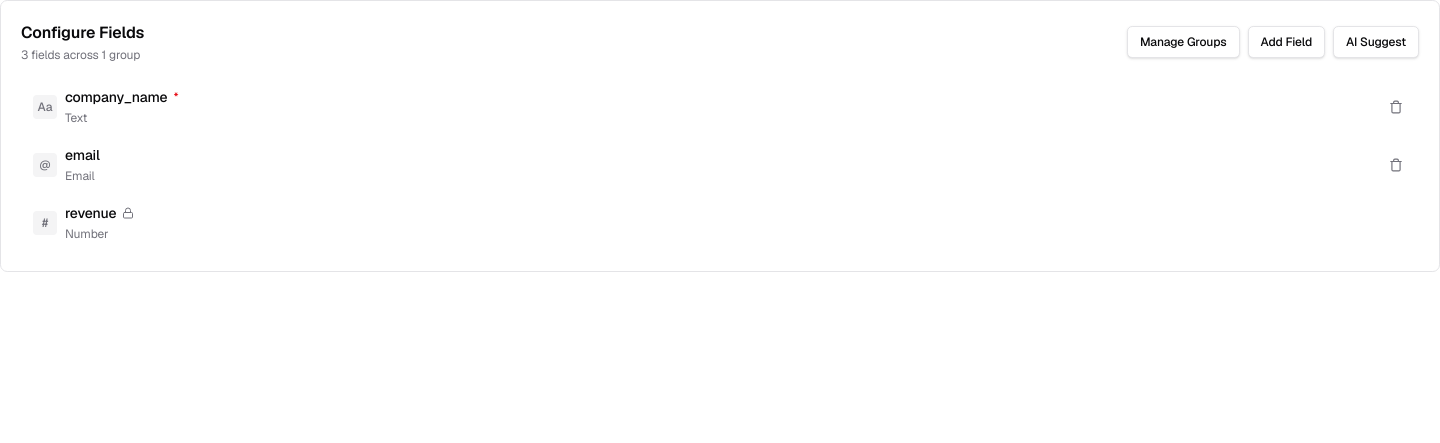
Scenario: InlineFieldManager › action buttons › closes other panels when opening a new one
Note: Open Add Field
Click the button with aria-label "Add a new field". click: [1286, 42]
box: [1248, 26, 1325, 58]
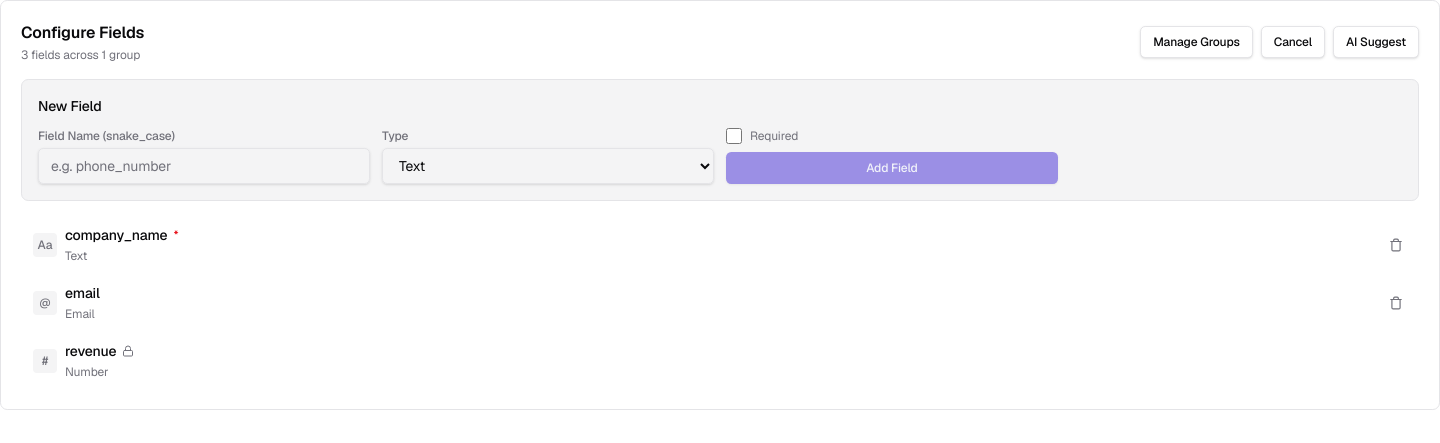
Result: the heading "New Field" is shown at [38, 97, 102, 115]
Note: Open AI Suggest — Add Field should close
Click the button with aria-label "AI field suggestions". click: [1376, 42]
box: [1333, 26, 1419, 58]
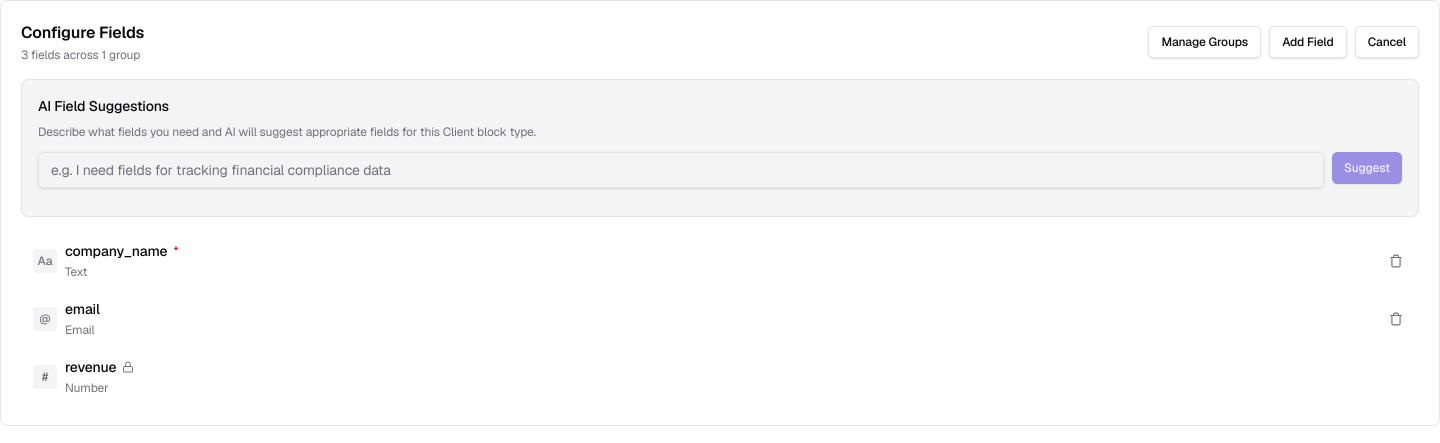
Result: the heading "New Field" is gone
Result: the heading "AI Field Suggestions" is shown at [38, 97, 169, 115]
